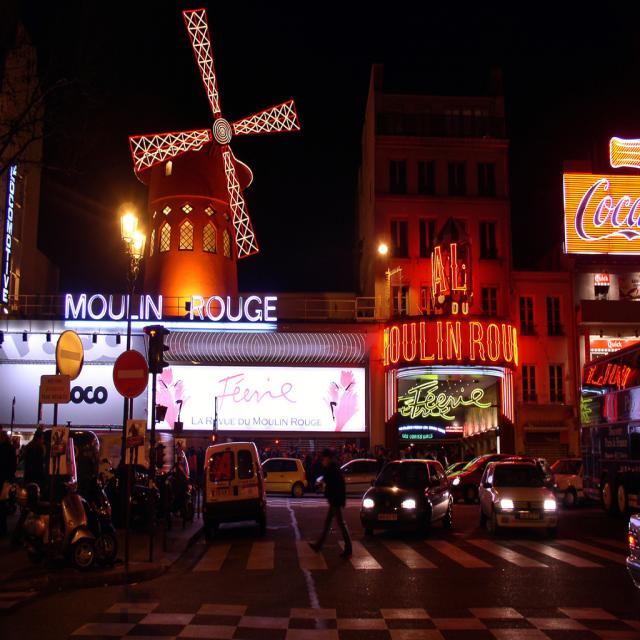Car: (490, 459, 556, 544), (365, 454, 482, 501)
Motorbike: (0, 448, 130, 575), (99, 439, 183, 531)
